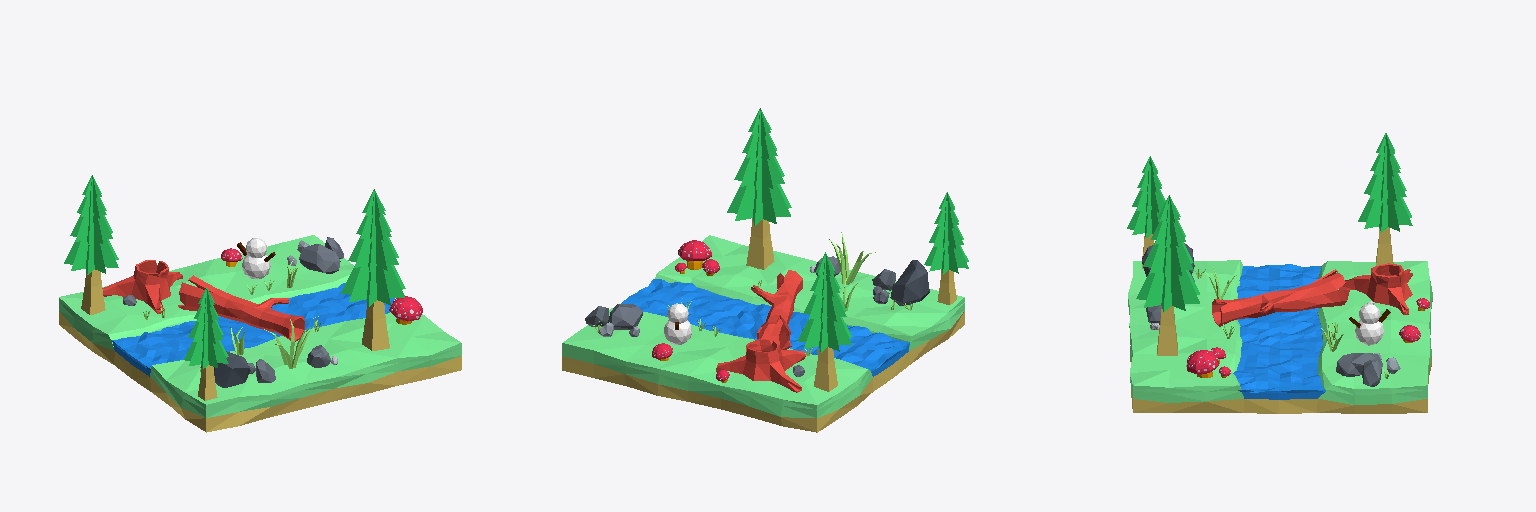
3 views of the same model, side by side, from view 1: azimuth 30°, elevation 25°; view 2: azimuth 150°, elevation 25°; view 3: azimuth 270°, elevation 25° (orthographic).
Parts seen in each view (by area): view 1: ground_平面.004, river_平面.005, tree.002_立方體.018, tree_立方體.016, fall_tree_圓柱體.001, tree.001_立方體.017, tree_root_圓柱體.003, 立方體.001_立方體.002, rock.006, rock.001, mushroom.001_圓柱體.009, grass.005_立方體.009; view 2: ground_平面.004, river_平面.005, tree.002_立方體.018, tree_立方體.016, tree.001_立方體.017, tree_root_圓柱體.003, fall_tree_圓柱體.001, rock.001, 立方體.001_立方體.002, rock.006, mushroom.001_圓柱體.009, grass.005_立方體.009; view 3: ground_平面.004, river_平面.005, tree.002_立方體.018, tree_立方體.016, fall_tree_圓柱體.001, tree_root_圓柱體.003, tree.001_立方體.017, 立方體.001_立方體.002, mushroom.001_圓柱體.009, rock.006.
Part boxes in pixels (bbox=[...]): ground_平面.004: bbox=[59, 235, 461, 432]; river_平面.005: bbox=[112, 283, 394, 376]; tree.002_立方體.018: bbox=[341, 189, 405, 350]; tree_立方體.016: bbox=[64, 175, 118, 314]; fall_tree_圓柱體.001: bbox=[178, 275, 304, 341]; tree.001_立方體.017: bbox=[184, 287, 228, 400]; tree_root_圓柱體.003: bbox=[102, 260, 182, 313]; 立方體.001_立方體.002: bbox=[237, 238, 275, 278]; rock.006: bbox=[299, 244, 340, 273]; rock.001: bbox=[201, 351, 250, 387]; mushroom.001_圓柱體.009: bbox=[389, 296, 422, 324]; grass.005_立方體.009: bbox=[264, 319, 314, 368]; ground_平面.004: bbox=[562, 235, 964, 432]; river_平面.005: bbox=[621, 279, 909, 376]; tree.002_立方體.018: bbox=[727, 108, 791, 269]; tree_立方體.016: bbox=[798, 252, 851, 391]; tree.001_立方體.017: bbox=[924, 192, 968, 304]; tree_root_圓柱體.003: bbox=[716, 339, 805, 392]; fall_tree_圓柱體.001: bbox=[751, 270, 802, 349]; rock.001: bbox=[890, 260, 929, 305]; 立方體.001_立方體.002: bbox=[664, 303, 691, 344]; rock.006: bbox=[608, 304, 642, 329]; mushroom.001_圓柱體.009: bbox=[678, 240, 711, 269]; grass.005_立方體.009: bbox=[829, 232, 875, 284]; ground_平面.004: bbox=[1128, 260, 1432, 413]; river_平面.005: bbox=[1233, 264, 1325, 399]; tree.002_立方體.018: bbox=[1136, 195, 1199, 355]; tree_立方體.016: bbox=[1358, 133, 1412, 265]; fall_tree_圓柱體.001: bbox=[1212, 269, 1349, 326]; tree_root_圓柱體.003: bbox=[1339, 263, 1412, 314]; tree.001_立方體.017: bbox=[1127, 156, 1165, 268]; 立方體.001_立方體.002: bbox=[1349, 303, 1390, 345]; mushroom.001_圓柱體.009: bbox=[1186, 350, 1218, 377]; rock.006: bbox=[1336, 353, 1382, 376].
Size of the model in its own units: 21.15 by 13.87 by 20.81.
Materials: 2 (1 with a texture image).